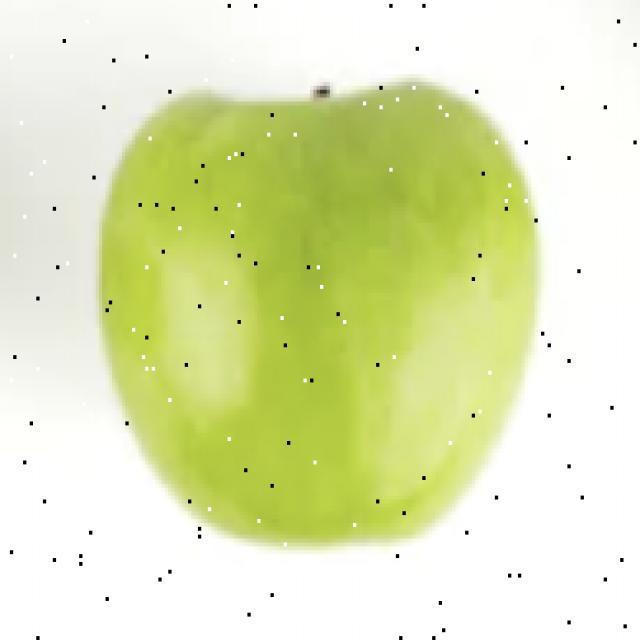Fresh Apple: (90, 90, 547, 542)
